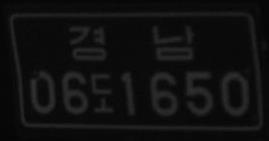0: (220, 71, 251, 118), (29, 68, 55, 114)
1: (118, 71, 141, 116)
5: (184, 70, 214, 116)
6: (150, 71, 178, 118), (61, 69, 87, 115)
경남_D: (69, 22, 196, 62)
도: (90, 71, 115, 114)
